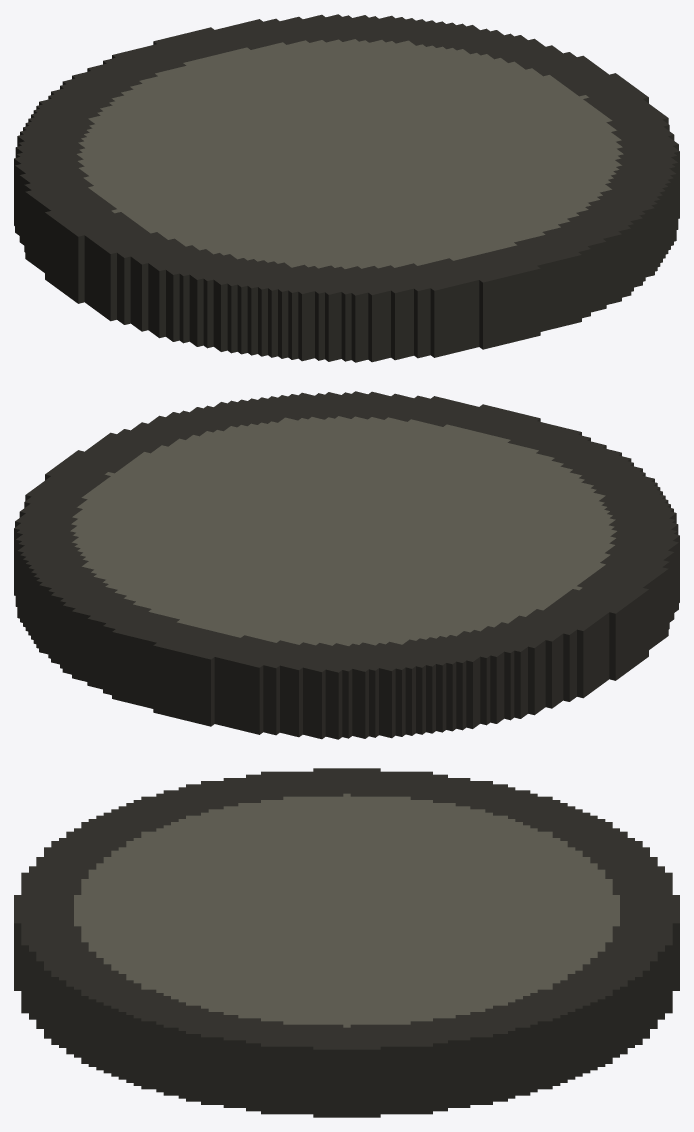
The model's file is factory4.4-23.obj.
3 views of the same model, one above another, from view 1: azimuth 30°, elevation 25°; view 2: azimuth 150°, elevation 25°; view 3: azimuth 270°, elevation 25° (orthographic).
Size of the model in its own units: 8.9 by 1 by 8.9.
Materials: 1 (1 with a texture image).
